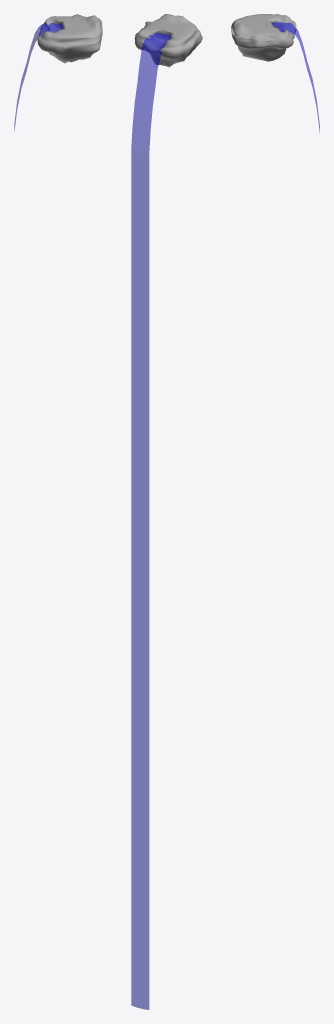
Rendered from island-waterfall.fbx.
The picture shows the model from 3 angles, left to right: view 1: azimuth 90°, elevation 25°; view 2: azimuth 150°, elevation 25°; view 3: azimuth 270°, elevation 25°; orthographic projection. The views are drawn at different scales.
Parts seen in each view (by area): view 1: island, waterfall; view 2: waterfall, island; view 3: island, waterfall.
Part boxes in pixels (box(x1,y1,x2,y2)): island: box(37, 14, 102, 63); waterfall: box(14, 23, 62, 131); waterfall: box(131, 32, 170, 1009); island: box(134, 14, 202, 67); island: box(231, 14, 296, 61); waterfall: box(271, 22, 319, 132).
Bounding box in the file's own units: 0.3868 × 6.53 × 0.5328.
